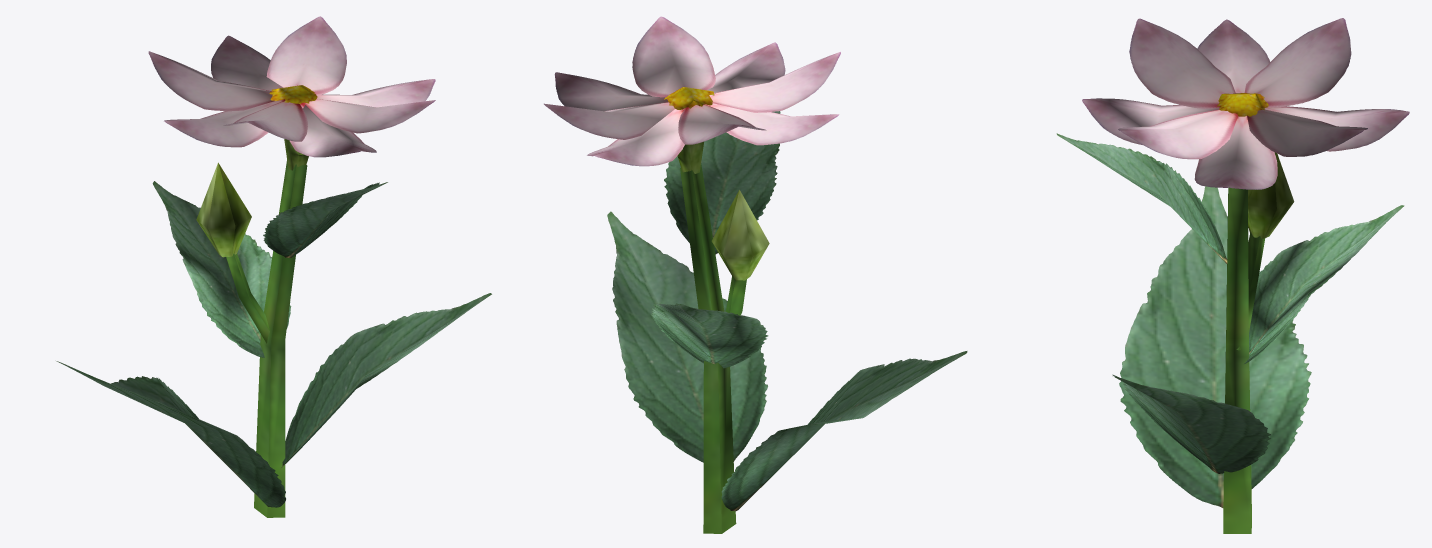
Rendered from whitef2.obj.
3 renders of one model, left to right at view 1: azimuth 30°, elevation 25°; view 2: azimuth 150°, elevation 25°; view 3: azimuth 270°, elevation 25°, orthographic. The views are drawn at different scales.
Parts seen in each view (by area): view 1: whiteflw02; view 2: whiteflw02; view 3: whiteflw02.
Part boxes in pixels (x1=…): whiteflw02: x1=56, y1=16, x2=491, y2=517; whiteflw02: x1=544, y1=16, x2=967, y2=533; whiteflw02: x1=1056, y1=18, x2=1409, y2=533.
Size of the model in its own units: 25.14 by 25.34 by 18.31.
2 materials, 2 textured.
